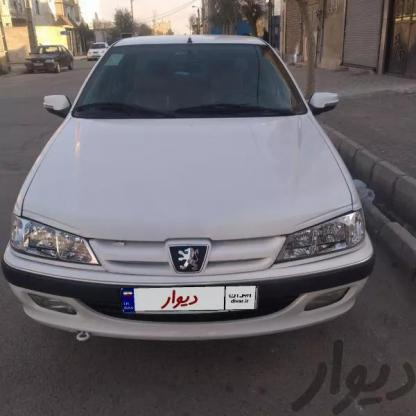Car: (10, 40, 406, 327), (36, 43, 87, 85), (84, 35, 109, 68)
